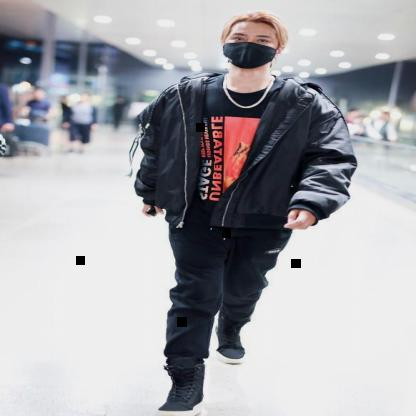mask: (219, 25, 281, 72)
